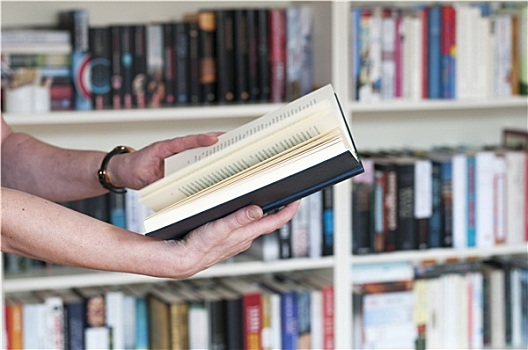book: (135, 81, 367, 240)
